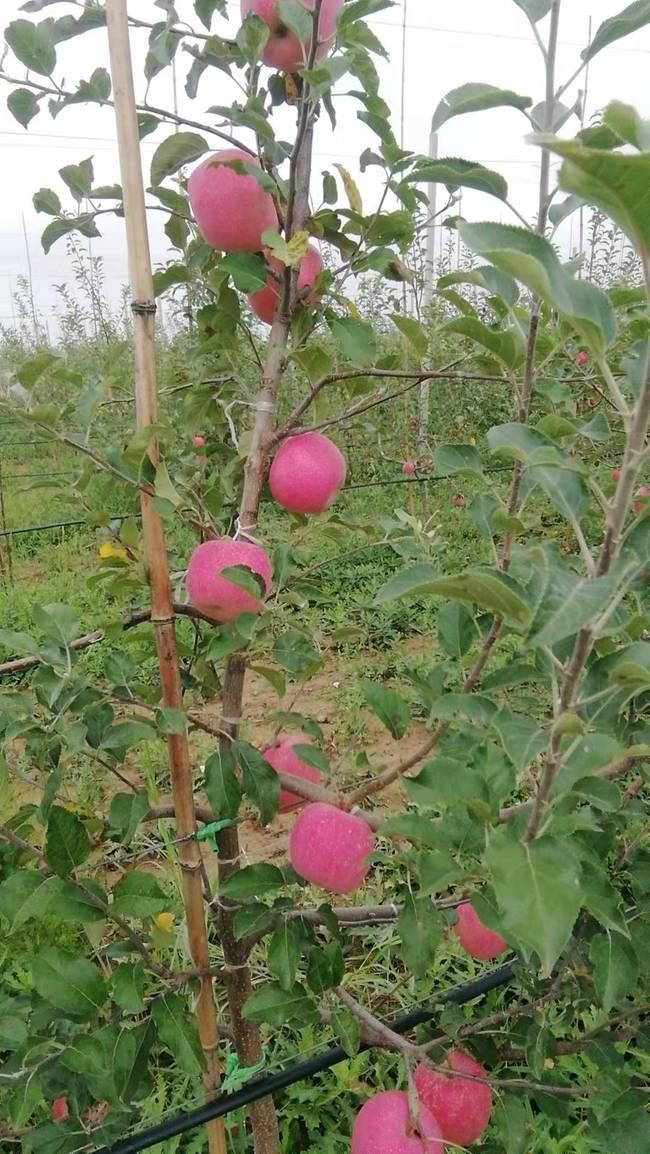apple: (189, 152, 280, 256), (288, 801, 376, 895), (264, 426, 346, 520), (413, 1049, 493, 1145), (235, 3, 340, 76), (184, 539, 271, 624), (351, 1089, 444, 1154), (255, 733, 323, 811)
